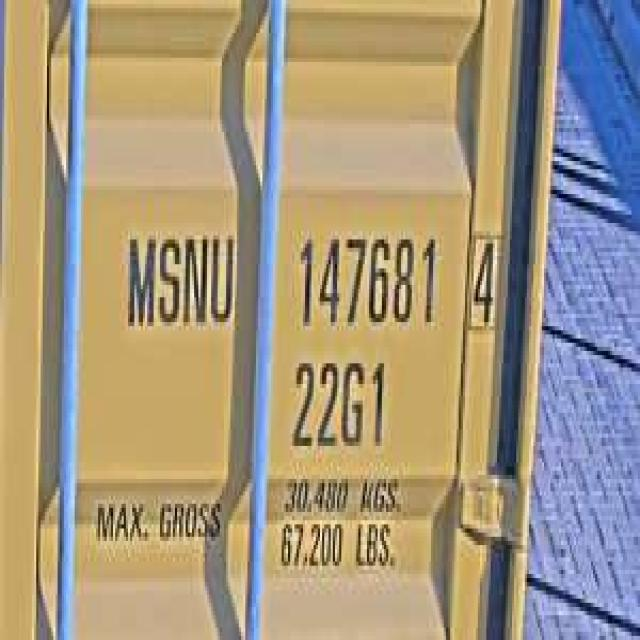dv: (463, 219, 499, 334)
owner: (121, 215, 236, 334)
serial: (288, 219, 439, 334)
size: (286, 347, 390, 454)
